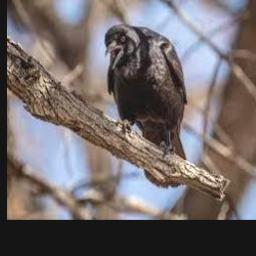Crow: (104, 23, 188, 189)
